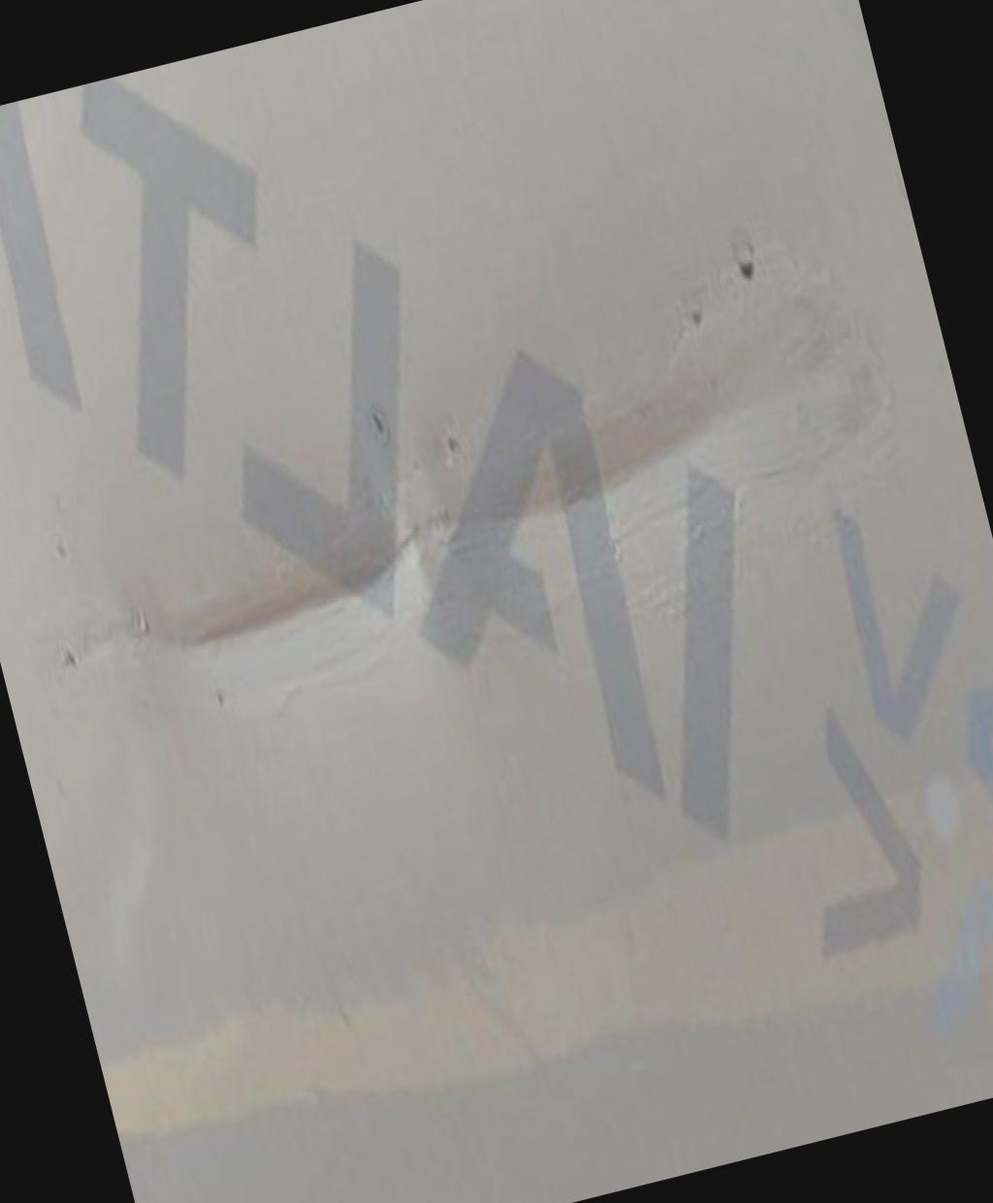crack: (18, 267, 903, 730)
